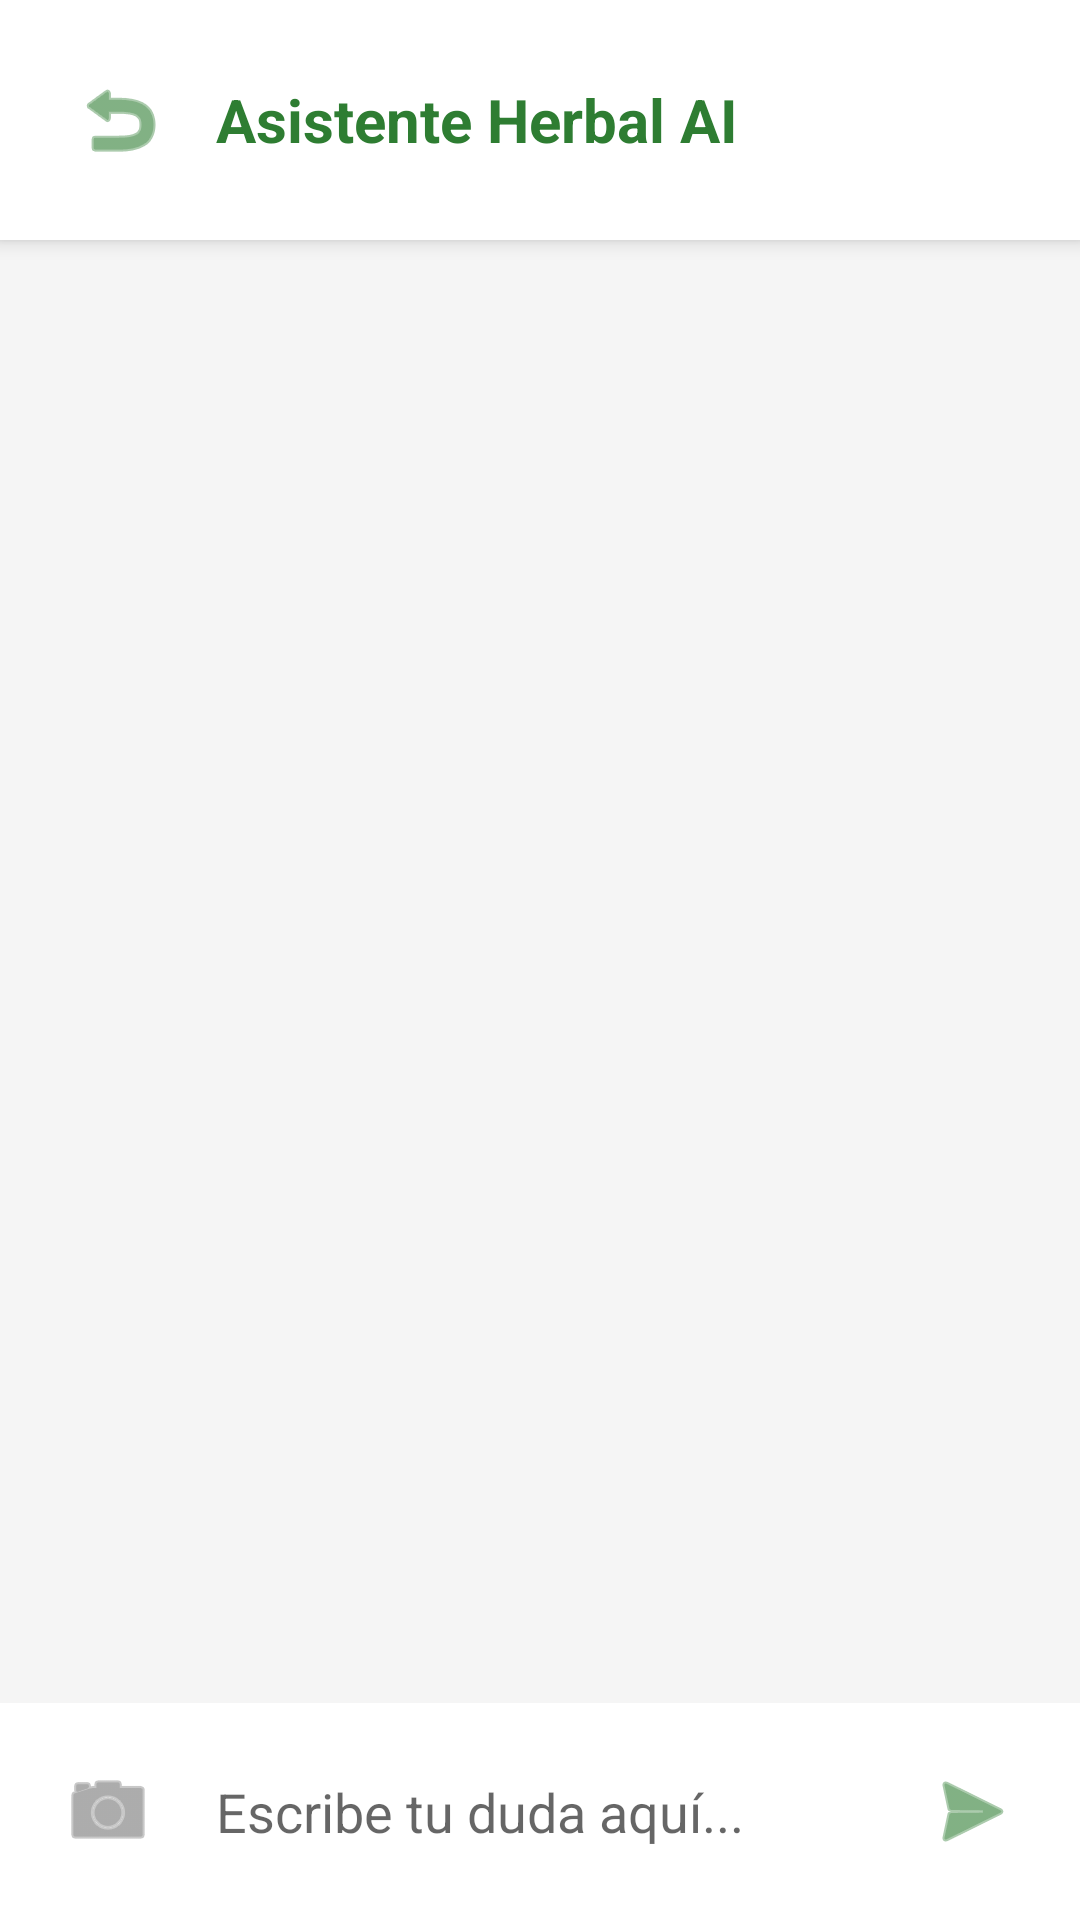

Where to tap for icons on this 1080×1920 app screen, as (x,y):
camera: (108,1809)
revert: (121,120)
send: (973,1811)
